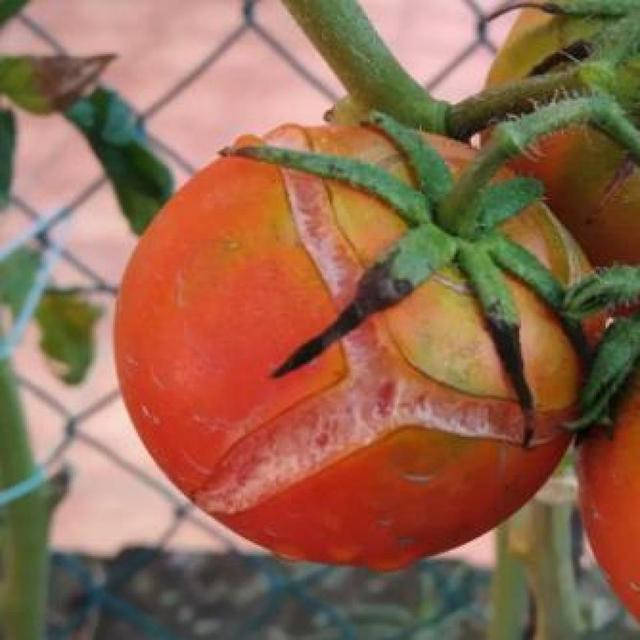Cracking Fruit: (118, 79, 382, 349)
